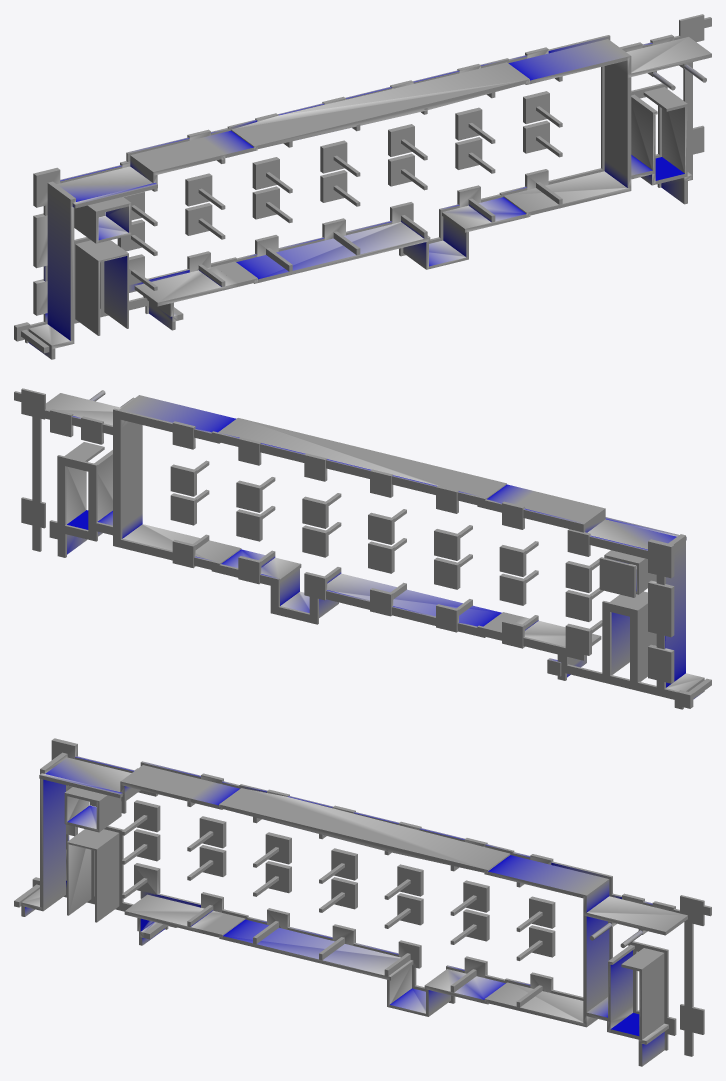
The picture shows the model from 3 angles, top to bottom: view 1: azimuth 30°, elevation 25°; view 2: azimuth 150°, elevation 25°; view 3: azimuth 330°, elevation 25°; orthographic projection. The views are drawn at different scales.
Parts seen in each view (by area): view 1: node; view 2: node; view 3: node.
Boxes of the visible parts, <box> form: node: <box>14,14,711,359</box>; node: <box>14,388,711,709</box>; node: <box>14,738,711,1066</box>.
Bounding box in the file's own units: 261 × 61.45 × 30.
